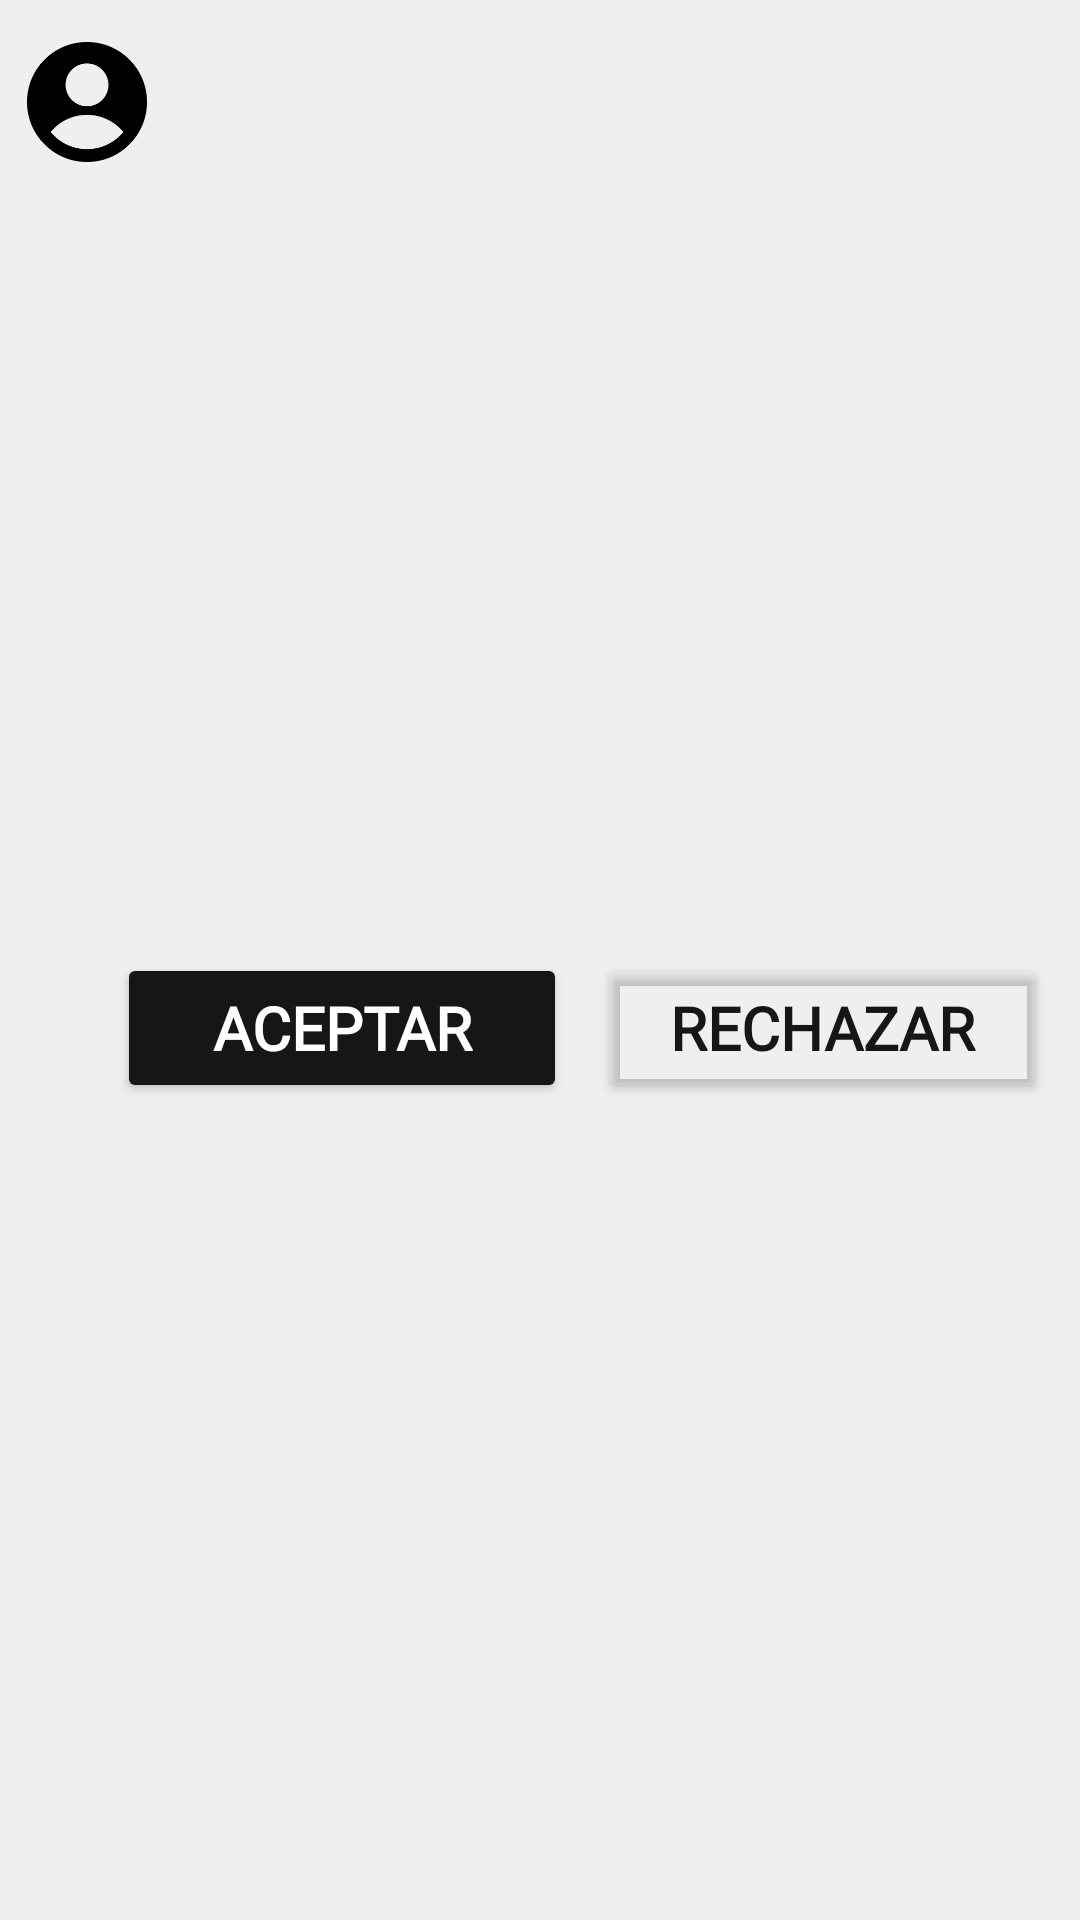

Screen size 1080×1920. Icon name, then its box in pixels as BBox(x1, y1, x2, y2):
Foto de perfíl del usuario: BBox(27, 42, 147, 162)
